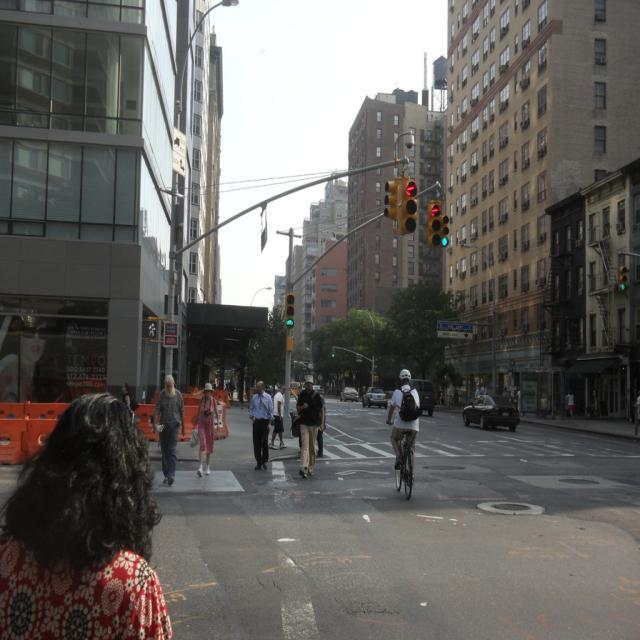traffic light: (400, 183, 420, 232), (426, 203, 442, 245), (442, 215, 451, 246)
